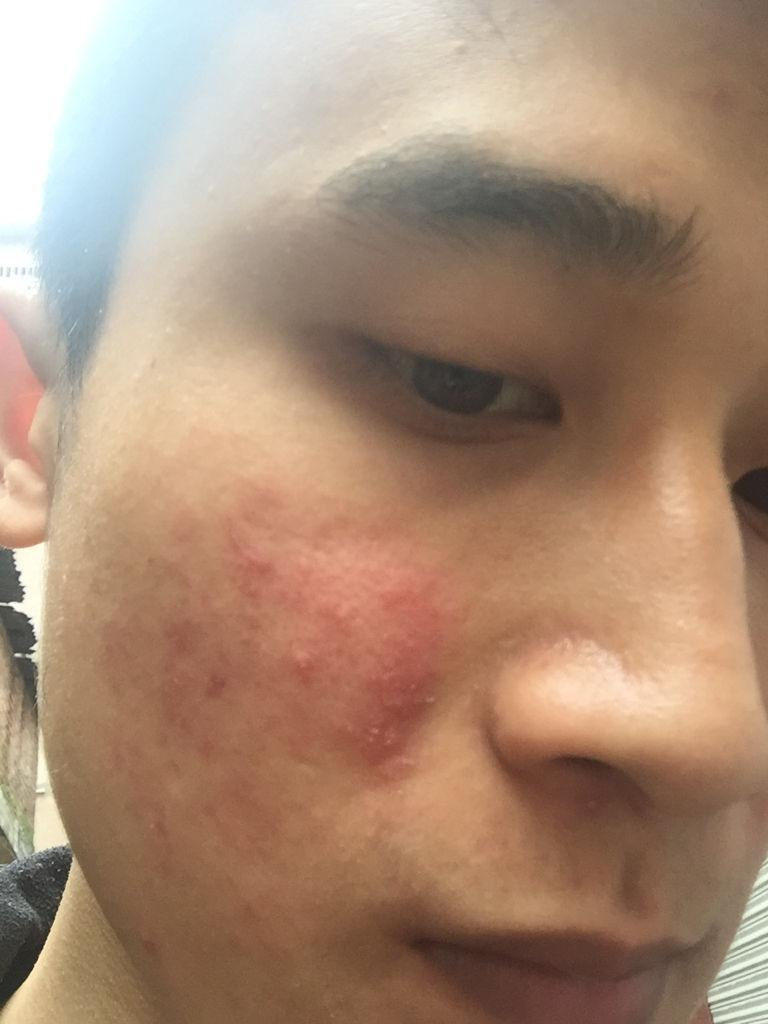fore: (273, 637, 325, 689), (196, 662, 239, 712), (157, 603, 198, 655), (152, 666, 198, 710), (132, 914, 166, 971), (366, 723, 418, 760), (234, 546, 282, 585), (234, 483, 277, 526), (314, 596, 359, 637)
